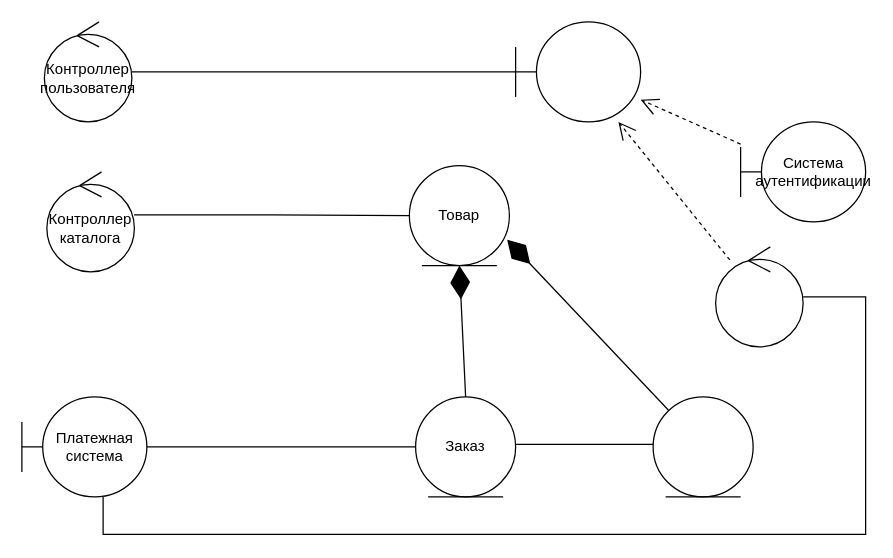
This 893x558 diagram has some shape labels left out. Here are the shapes that lost their labels. From the top down, the box of each, then its label:
(514, 21, 641, 122): Пользовательский интерфейс
(714, 246, 803, 347): Контроллер оплаты
(652, 396, 753, 497): Корзина
